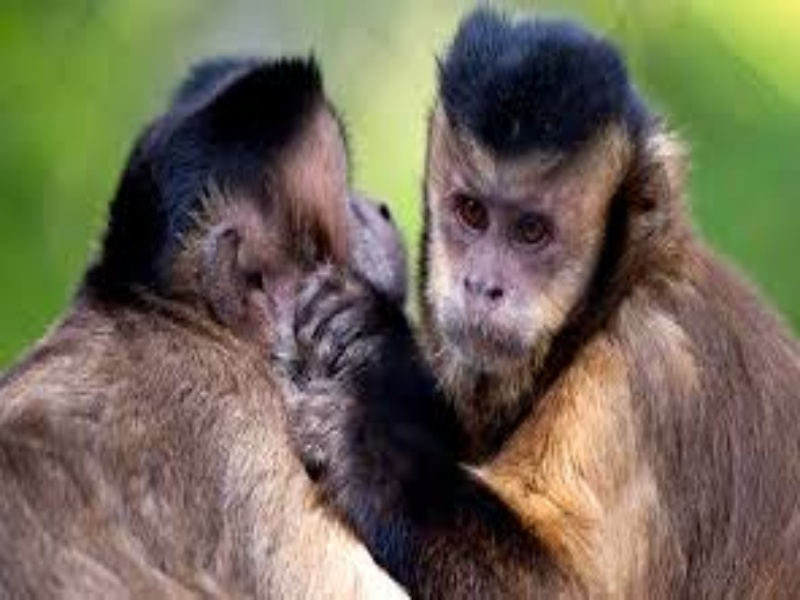monkey: (33, 12, 788, 589)
